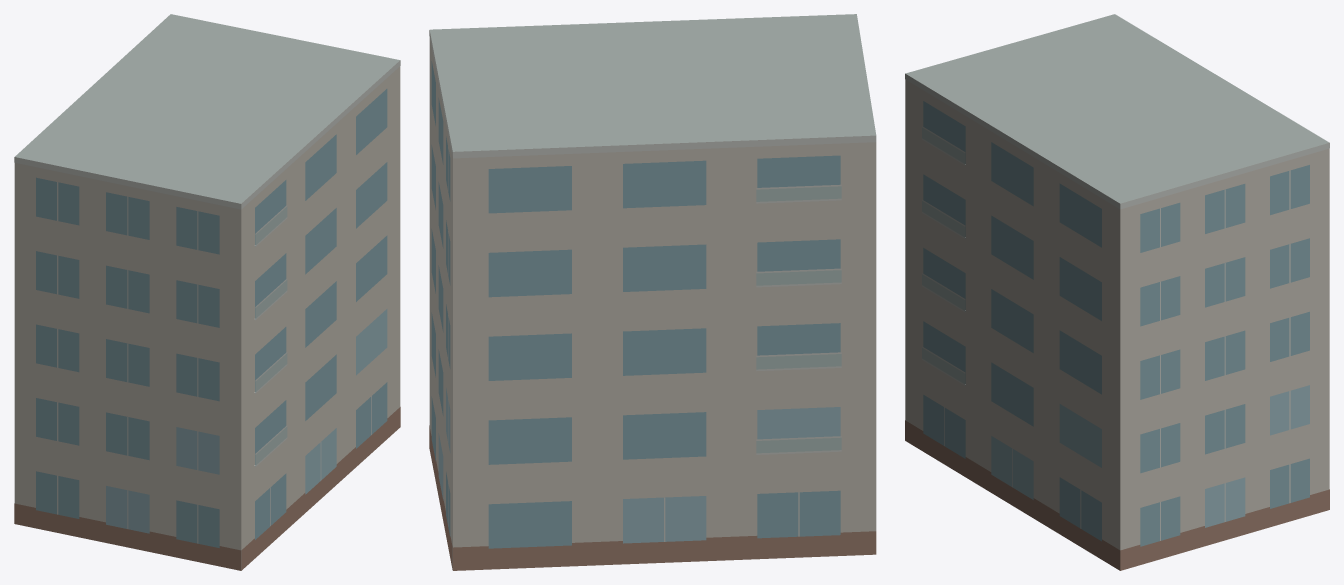
Rendered from survey-upis-32886873.glb.
3 renders of one model, left to right at view 1: azimuth 30°, elevation 25°; view 2: azimuth 150°, elevation 25°; view 3: azimuth 270°, elevation 25°, orthographic. The views are drawn at different scales.
Parts seen in each view (by area): view 1: survey-upis-32886873.tmp; view 2: survey-upis-32886873.tmp; view 3: survey-upis-32886873.tmp.
Part boxes in pixels (x1,y1,x2,y2): survey-upis-32886873.tmp: [14, 14, 400, 570]; survey-upis-32886873.tmp: [429, 14, 876, 570]; survey-upis-32886873.tmp: [905, 14, 1329, 570].
Size of the model in its own units: 17.27 by 15.57 by 16.33.
